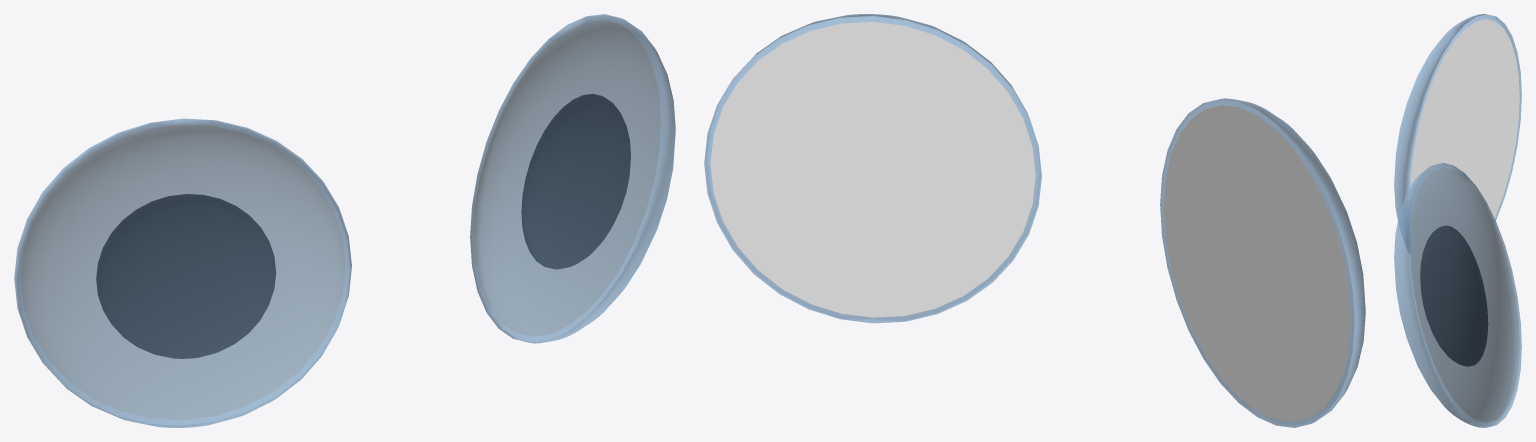
Rendered from googly_eyes.obj.
The picture shows the model from 3 angles, left to right: view 1: azimuth 30°, elevation 25°; view 2: azimuth 150°, elevation 25°; view 3: azimuth 270°, elevation 25°; orthographic projection. The views are drawn at different scales.
Visible parts, largest first — view 1: obj1, obj2, obj3; view 2: obj2, obj1; view 3: obj1, obj2, obj3.
Boxes of the visible parts, x1,y1,x2,y2 form: obj1: [14, 14, 675, 427]; obj2: [20, 20, 660, 419]; obj3: [96, 94, 630, 358]; obj2: [710, 22, 1350, 421]; obj1: [704, 14, 1365, 427]; obj1: [1394, 14, 1521, 427]; obj2: [1410, 19, 1519, 422]; obj3: [1420, 225, 1488, 366].
Size of the model in its own units: 206 by 92.38 by 43.89.
